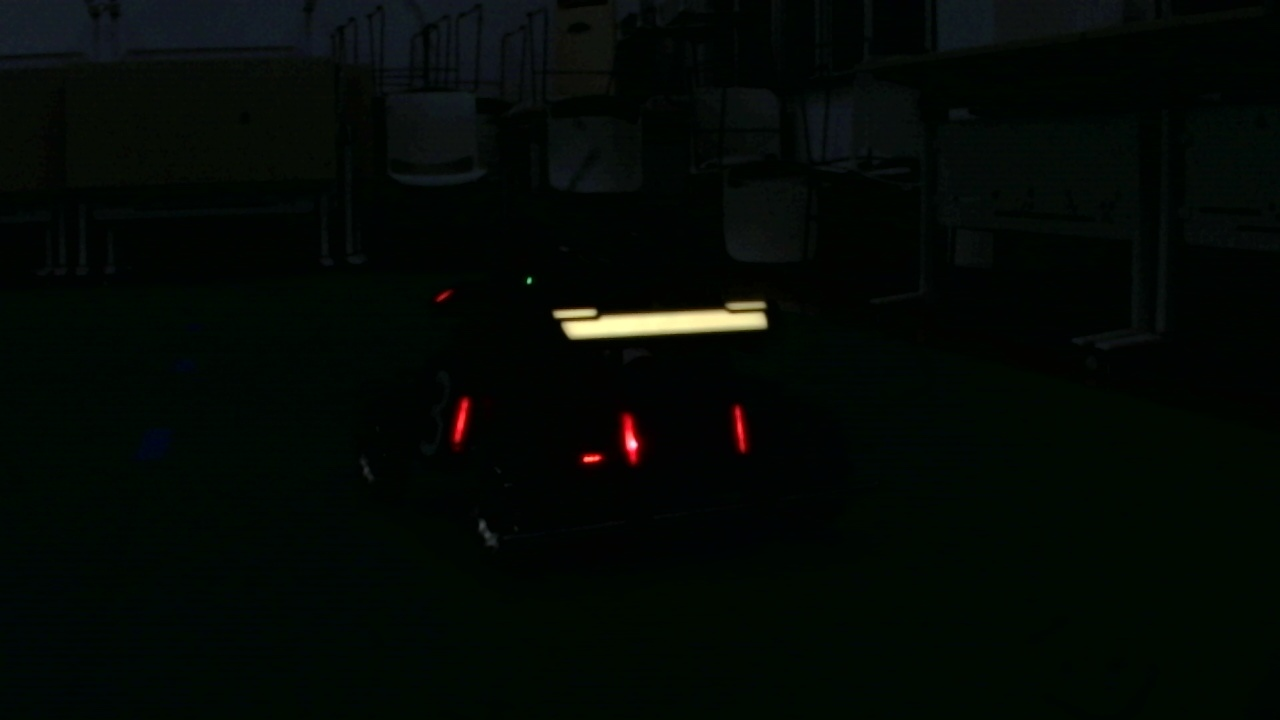lamp: (615, 403, 643, 474), (449, 388, 472, 447), (734, 403, 746, 459)
notpair1: (450, 393, 640, 470)
pair1: (622, 402, 746, 465)
